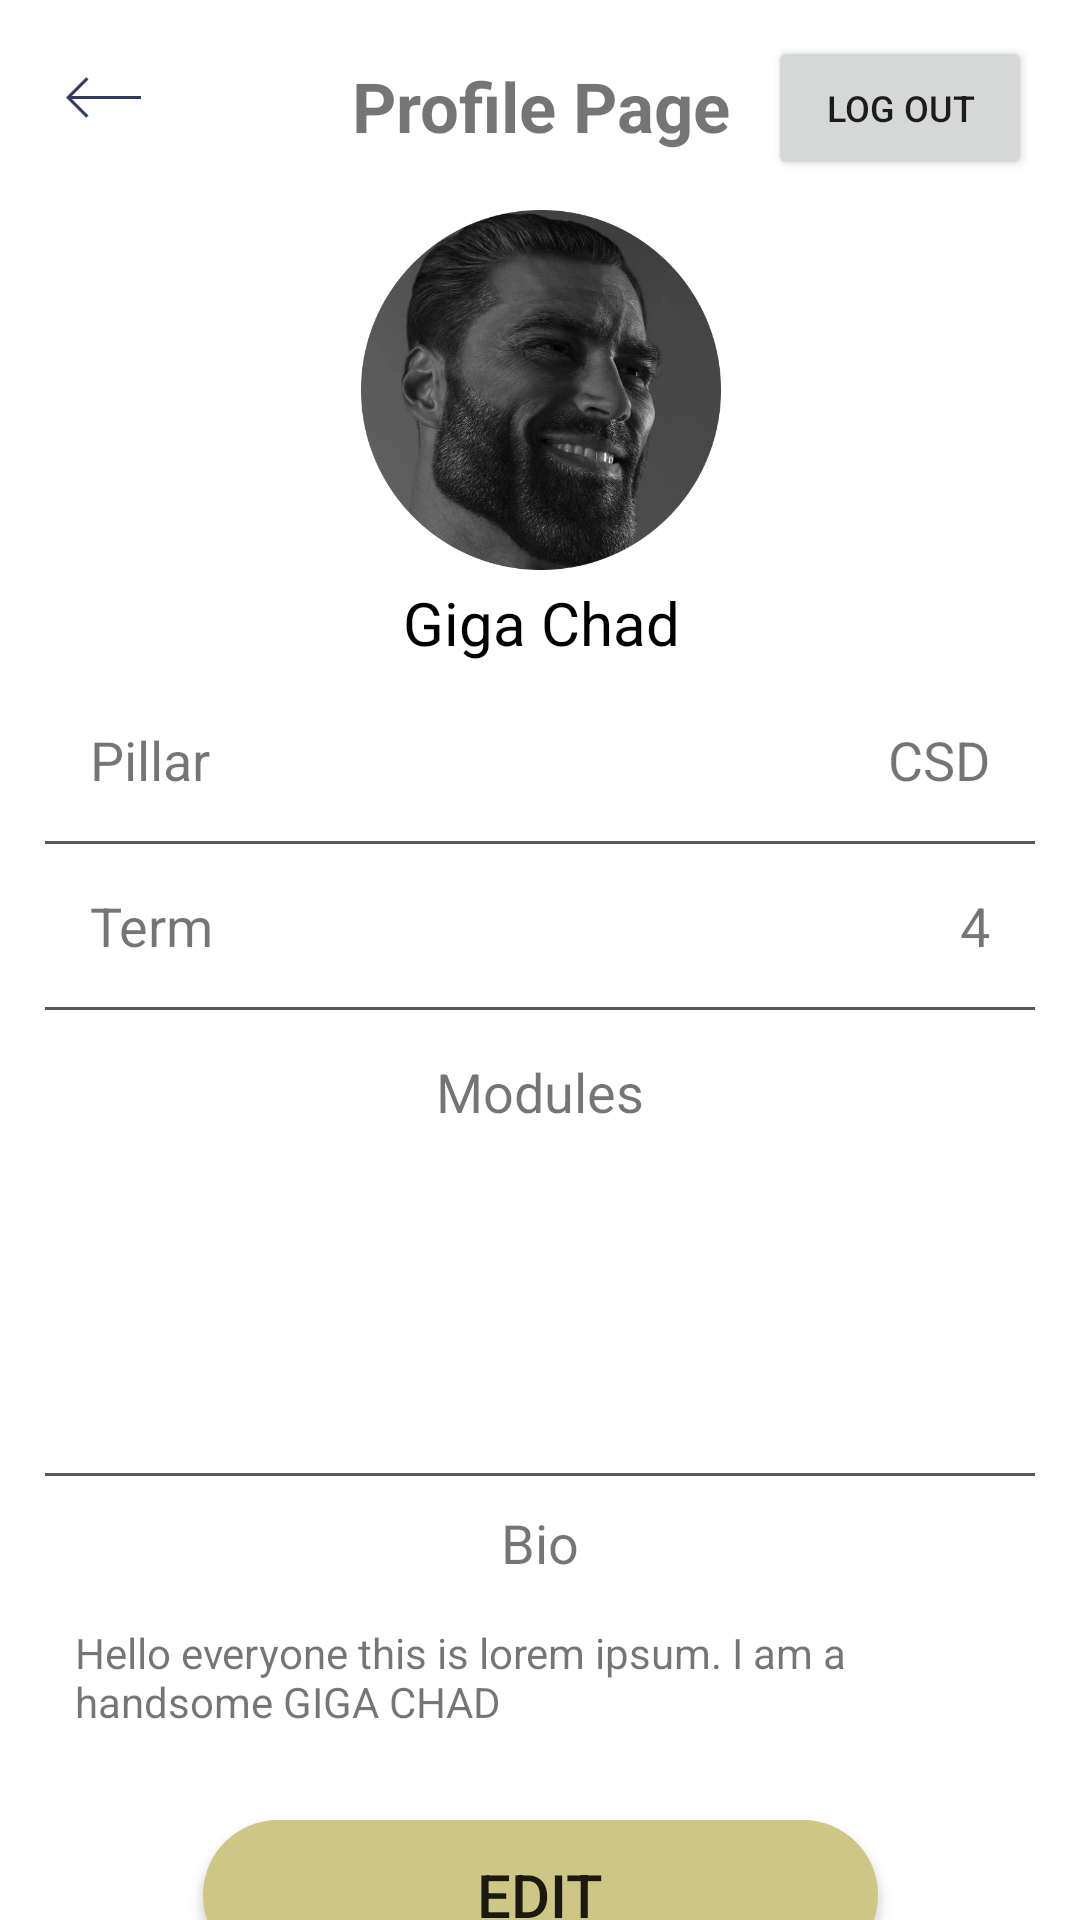

Icon bounding boxes for this 1080px×1920px phone screenshot, format rect(x1, y1, x2, y2):
back: rect(66, 77, 141, 118)
